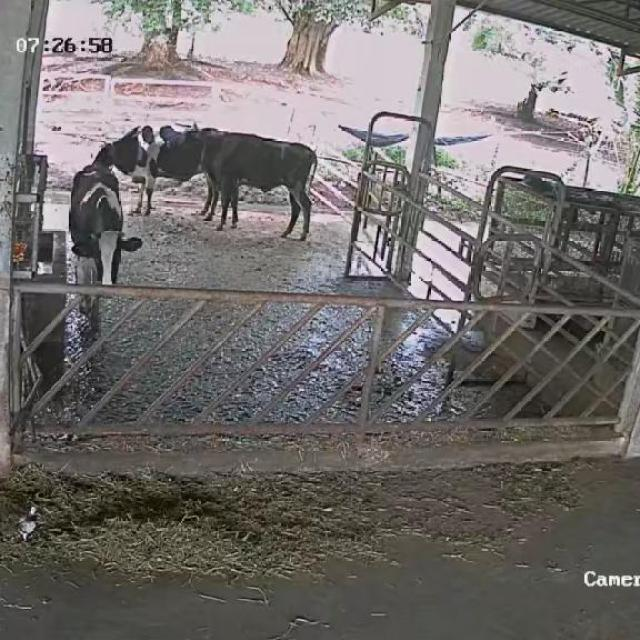standing: (161, 116, 319, 241), (91, 118, 222, 219), (68, 162, 146, 306)
